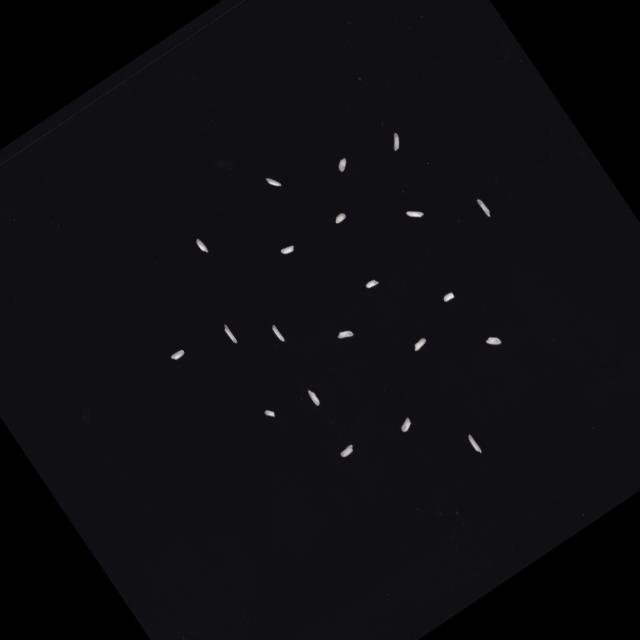Chalky: (386, 132, 404, 152), (466, 434, 482, 455), (406, 205, 424, 223), (476, 198, 492, 218), (222, 324, 238, 344), (484, 333, 501, 350), (270, 324, 285, 343), (265, 174, 281, 191), (336, 327, 353, 343), (411, 337, 428, 352), (306, 388, 320, 406), (398, 417, 413, 433), (194, 238, 208, 255), (338, 444, 355, 458), (334, 158, 350, 172), (280, 244, 296, 258), (170, 349, 184, 362), (332, 212, 347, 224), (364, 278, 378, 290), (264, 408, 276, 420), (442, 292, 454, 303)
